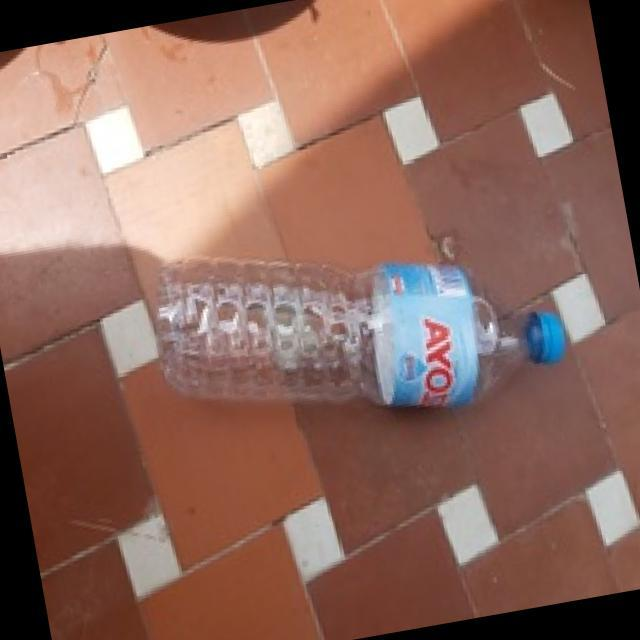good: (137, 191, 582, 464)
